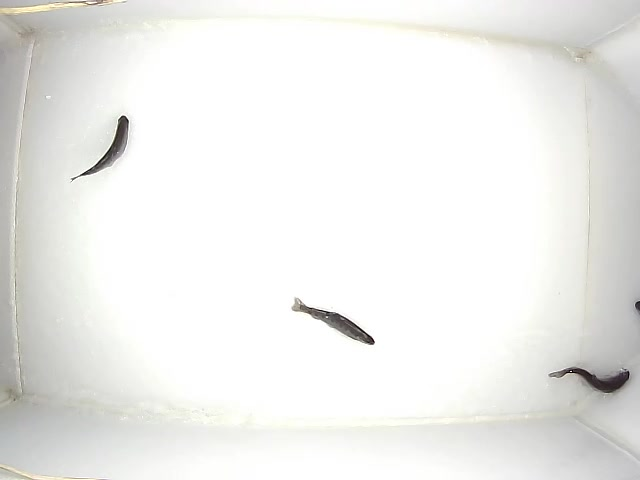fish: (290, 295, 375, 345), (70, 114, 130, 182), (548, 366, 630, 393)
